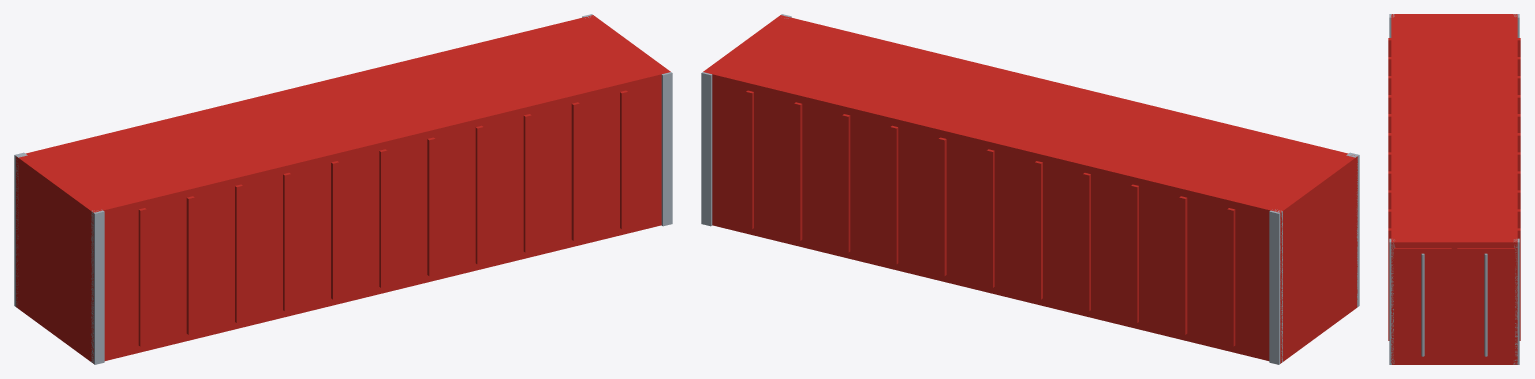
Rendered from shipping_container_red.glb.
The picture shows the model from 3 angles, left to right: view 1: azimuth 30°, elevation 25°; view 2: azimuth 150°, elevation 25°; view 3: azimuth 270°, elevation 25°; orthographic projection. The views are drawn at different scales.
Visible parts, largest first — view 1: shipping_container_red__static; view 2: shipping_container_red__static; view 3: shipping_container_red__static.
Boxes of the visible parts, box(x1,y1,x2,y2) form: shipping_container_red__static: box(14, 14, 672, 364); shipping_container_red__static: box(701, 14, 1359, 364); shipping_container_red__static: box(1388, 14, 1520, 364).
Size of the model in its own units: 12.1 by 3 by 2.93.
